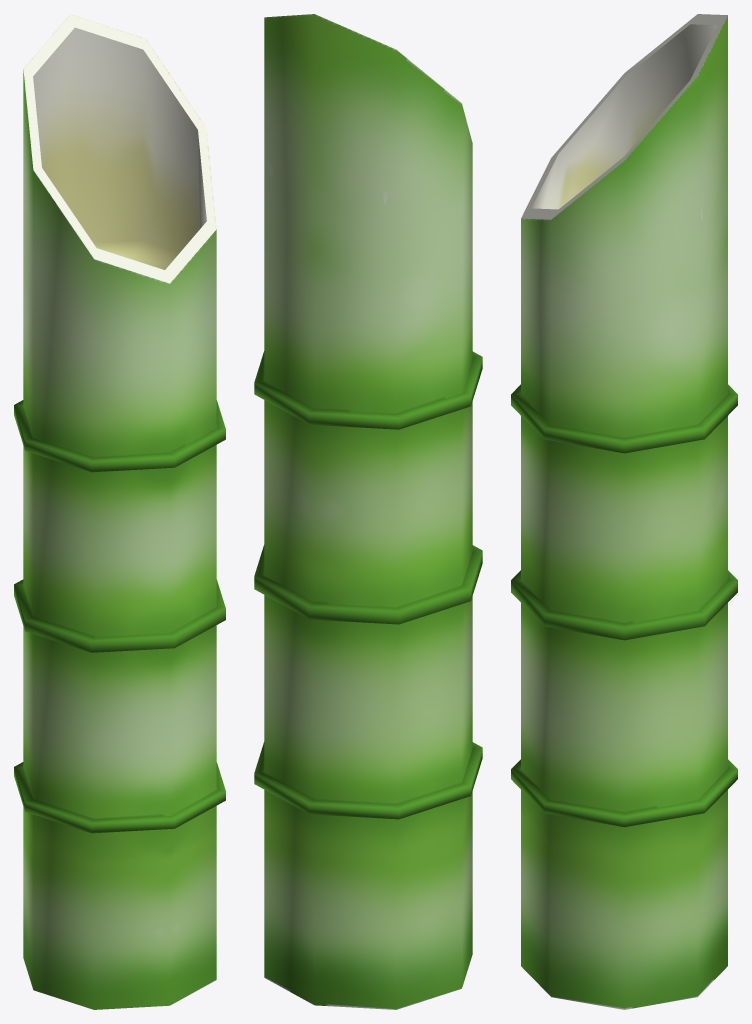
Rendered from Spike.fbx.
3 renders of one model, left to right at view 1: azimuth 30°, elevation 25°; view 2: azimuth 150°, elevation 25°; view 3: azimuth 270°, elevation 25°, orthographic. The views are drawn at different scales.
Parts seen in each view (by area): view 1: polySurface4; view 2: polySurface4; view 3: polySurface4.
Part boxes in pixels (bbox=[...]): polySurface4: bbox=[14, 14, 225, 1009]; polySurface4: bbox=[254, 14, 482, 1009]; polySurface4: bbox=[511, 14, 737, 1009].
Bounding box in the file's own units: 26.73 × 124 × 26.73.
Materials: 1 (1 with a texture image).
